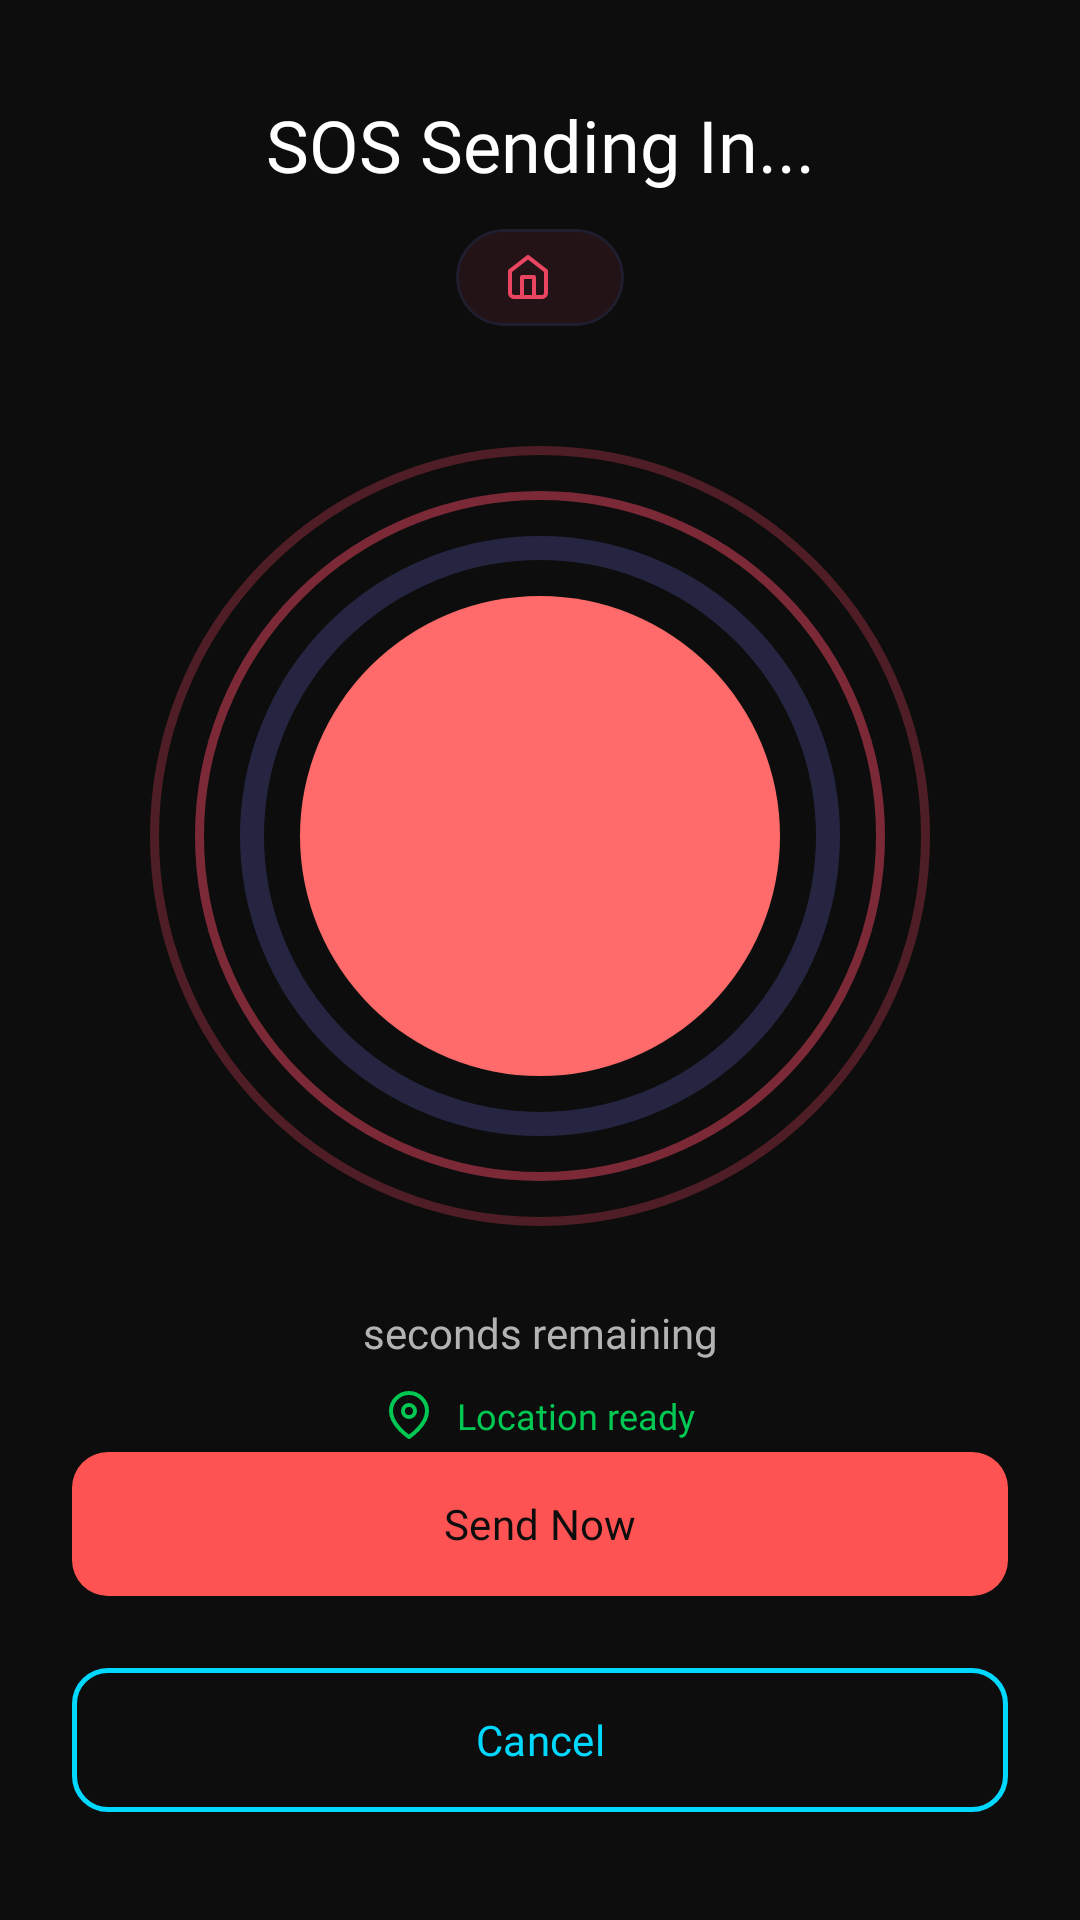

Icons on this 1080×1920 Android screen, each with its box as (x1=x1, y1=y1, x2=x2, y2=y2):
home: (x1=508, y1=255, x2=548, y2=299)
